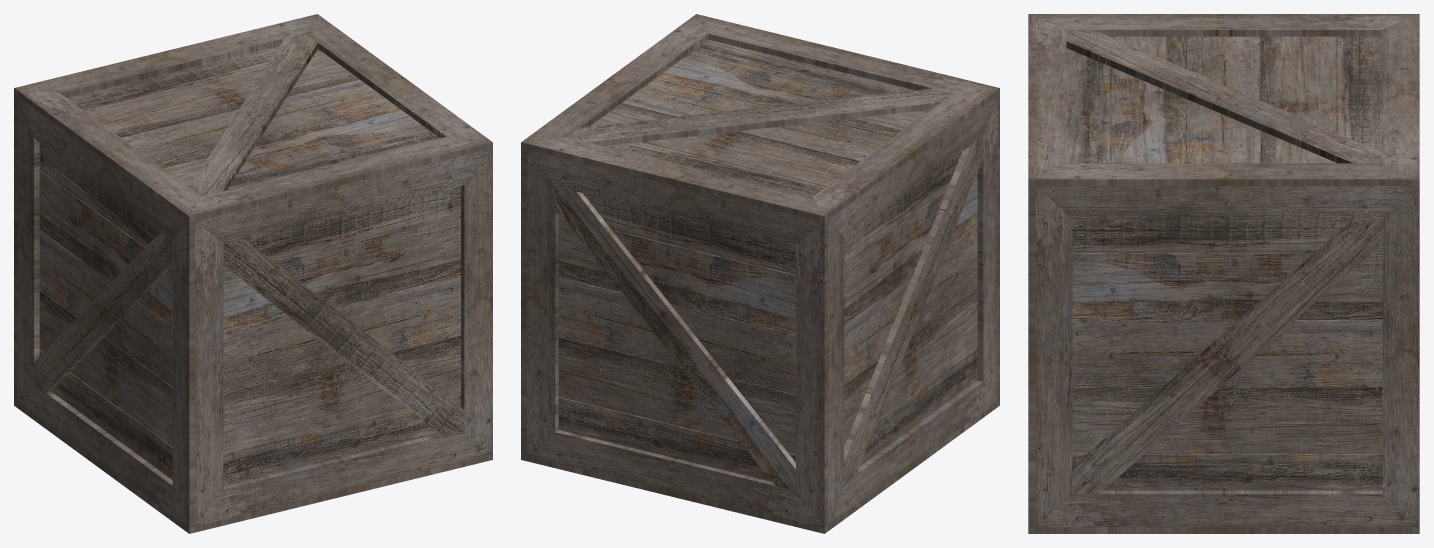
The model's file is Crate_Big.glb.
3 views of the same model, side by side, from view 1: azimuth 30°, elevation 25°; view 2: azimuth 150°, elevation 25°; view 3: azimuth 270°, elevation 25° (orthographic). The views are drawn at different scales.
Parts seen in each view (by area): view 1: Crate-04; view 2: Crate-04; view 3: Crate-04.
Boxes of the visible parts, bbox=[...] form: Crate-04: bbox=[14, 14, 492, 533]; Crate-04: bbox=[521, 14, 999, 533]; Crate-04: bbox=[1028, 14, 1419, 533].
Size of the model in its own units: 1.17 by 1.17 by 1.17.
Materials: 1 (1 with a texture image).
